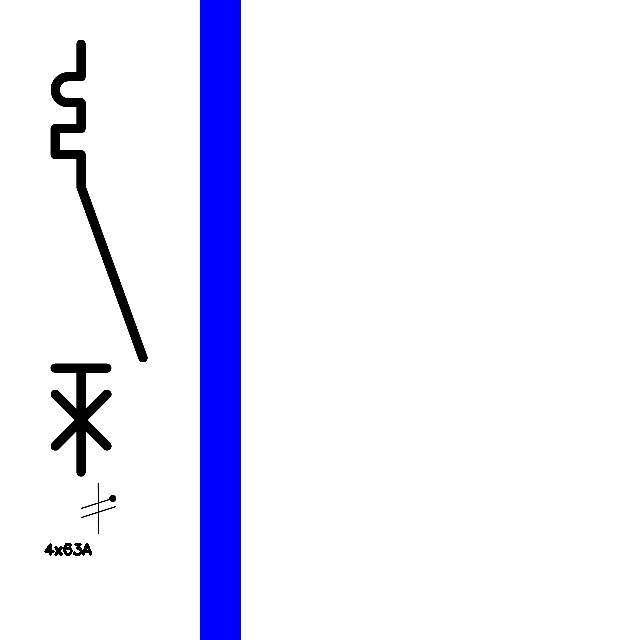interruptor_termomagnetico: (44, 33, 154, 483)
